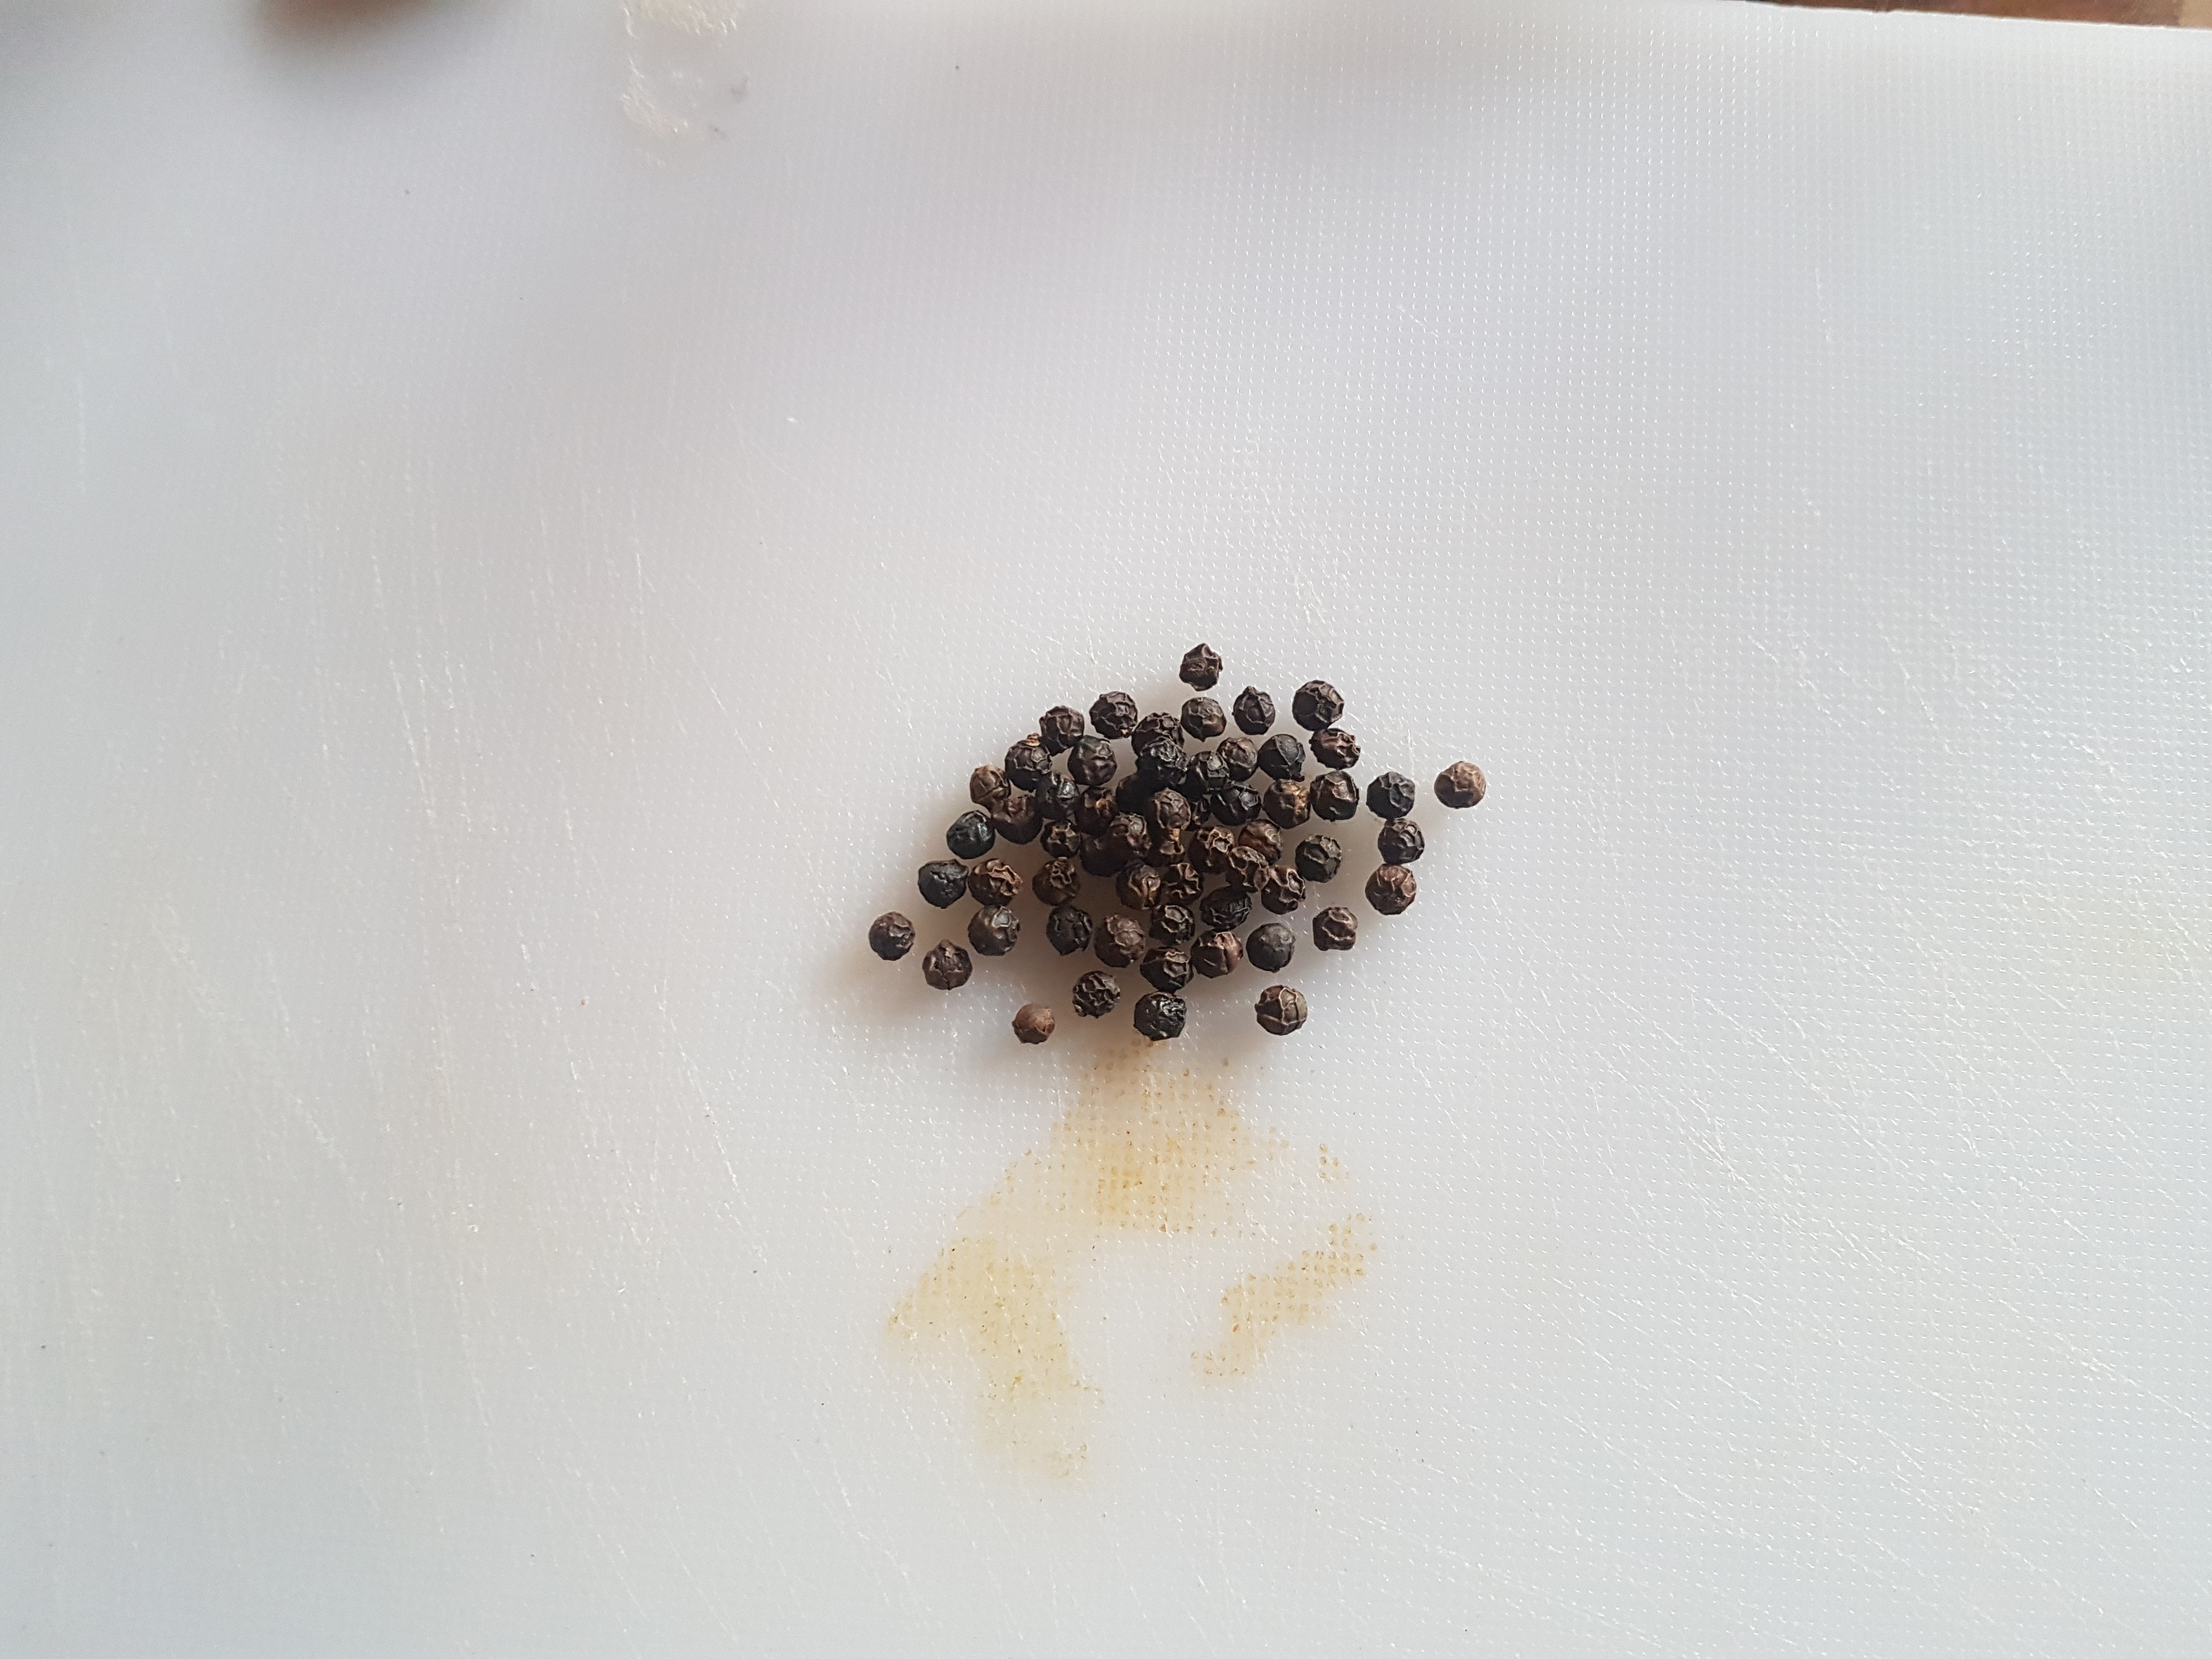pepper corns: (864, 589, 1547, 1107)
